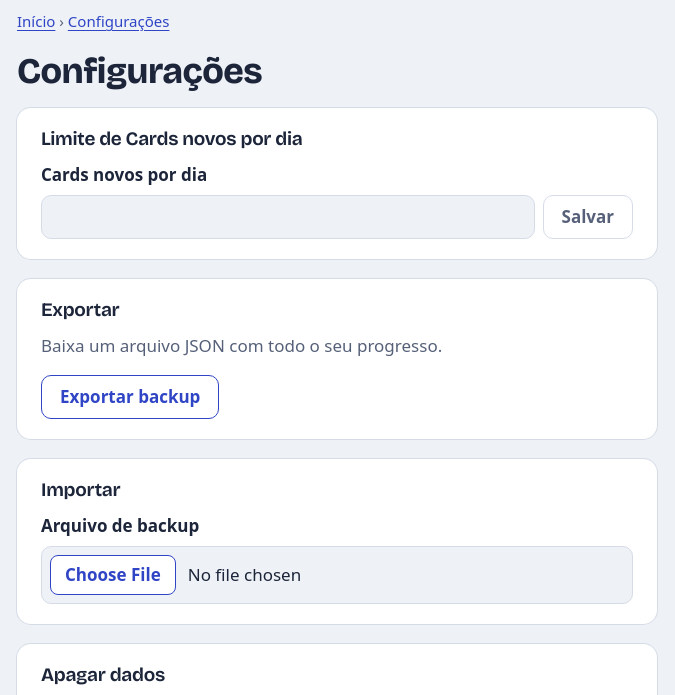
Test case: Configuracoes › exportar baixa o arquivo e avisa
The width and height of the screenshot is (675, 695).
Click the button "Exportar backup". click: (130, 397)
box: [41,375,219,419]
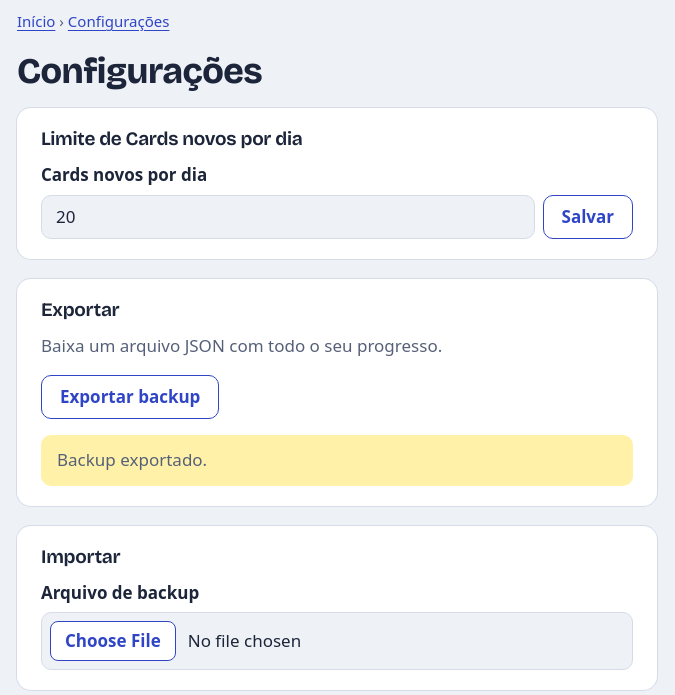
Expected: the text "Backup exportado." is shown, [41,436,633,486]
